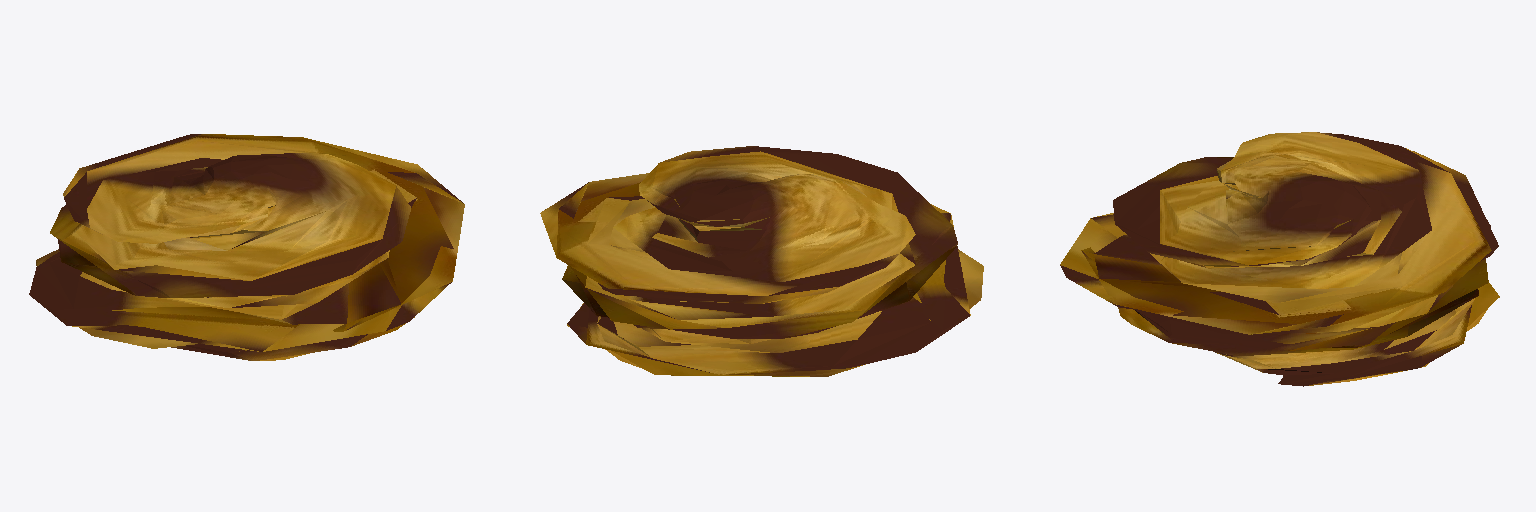
3 renders of one model, left to right at view 1: azimuth 30°, elevation 25°; view 2: azimuth 150°, elevation 25°; view 3: azimuth 270°, elevation 25°, orthographic.
Visible parts, largest first — view 1: Slipped_Banana_potato; view 2: Slipped_Banana_potato; view 3: Slipped_Banana_potato.
Part boxes in pixels (x1,y1,x2,y2): Slipped_Banana_potato: (29, 134, 464, 360); Slipped_Banana_potato: (540, 146, 983, 376); Slipped_Banana_potato: (1060, 132, 1499, 386).
Size of the model in its own units: 1.88 by 0.6598 by 1.83.
Materials: 1 (1 with a texture image).